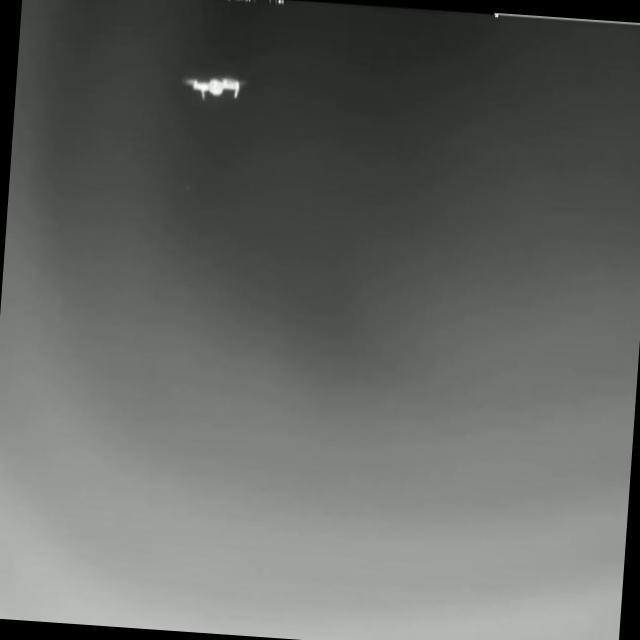DRONE: (177, 72, 246, 100)
